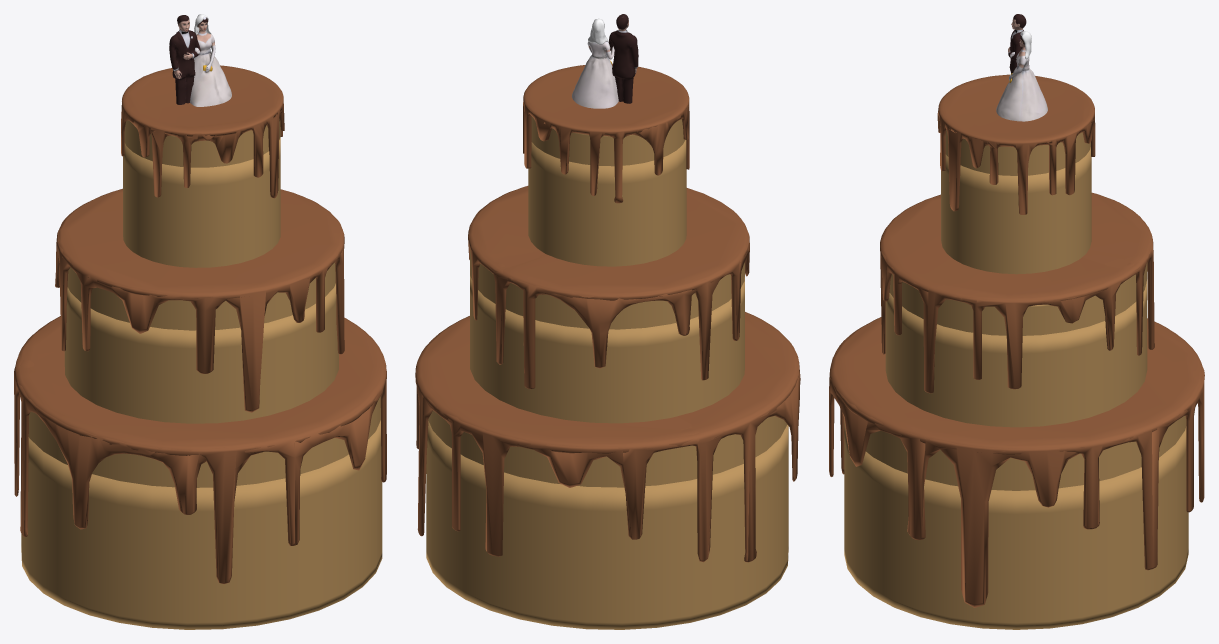
Rendered from 3-tier-caramel-ganache-bridegroom.glb.
The picture shows the model from 3 angles, left to right: view 1: azimuth 30°, elevation 25°; view 2: azimuth 150°, elevation 25°; view 3: azimuth 270°, elevation 25°; orthographic projection. The views are drawn at different scales.
Visible parts, largest first — view 1: Cylinder.022, tHE ICING.005, Cylinder.014, tHE ICING.002, Cylinder.021, tHE ICING.001, 13501_Cake_Topper_Bride_Groom_v1_L1.002; view 2: Cylinder.022, tHE ICING.005, Cylinder.014, tHE ICING.002, Cylinder.021, tHE ICING.001, 13501_Cake_Topper_Bride_Groom_v1_L1.002; view 3: Cylinder.022, tHE ICING.005, Cylinder.014, tHE ICING.002, Cylinder.021, tHE ICING.001, 13501_Cake_Topper_Bride_Groom_v1_L1.002.
Boxes of the visible parts, x1,y1,x2,y2 form: Cylinder.022: (21, 396, 382, 629); tHE ICING.005: (14, 316, 386, 584); Cylinder.014: (64, 262, 338, 423); tHE ICING.002: (55, 188, 344, 412); Cylinder.021: (123, 119, 280, 267); tHE ICING.001: (121, 65, 284, 198); 13501_Cake_Topper_Bride_Groom_v1_L1.002: (169, 14, 231, 106); Cylinder.022: (426, 411, 788, 629); tHE ICING.005: (415, 312, 800, 562); Cylinder.014: (470, 249, 744, 423); tHE ICING.002: (468, 186, 749, 389); Cylinder.021: (528, 116, 686, 266); tHE ICING.001: (523, 64, 689, 203); 13501_Cake_Topper_Bride_Groom_v1_L1.002: (572, 14, 638, 108); Cylinder.022: (844, 416, 1188, 629); tHE ICING.005: (829, 317, 1204, 607); Cylinder.014: (885, 262, 1147, 427); tHE ICING.002: (880, 192, 1154, 393); Cylinder.021: (941, 130, 1091, 274); tHE ICING.001: (937, 74, 1095, 214); 13501_Cake_Topper_Bride_Groom_v1_L1.002: (996, 14, 1047, 121).
Bounding box in the file's own units: 4.33 × 6.91 × 4.43.
Materials: 3 (1 with a texture image).
